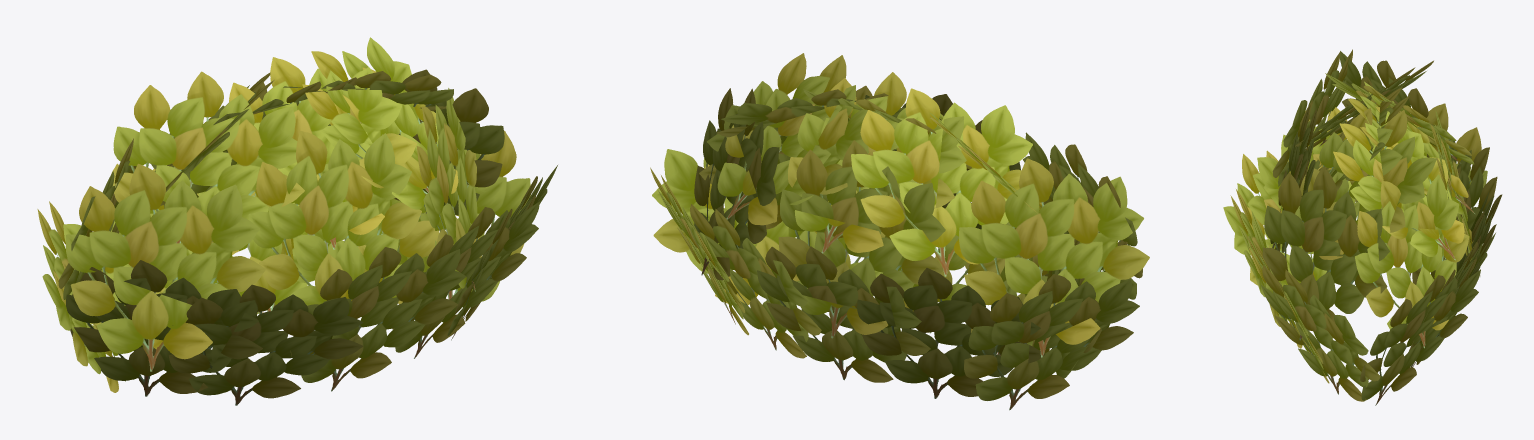
The model's file is bush2.glb.
3 views of the same model, side by side, from view 1: azimuth 30°, elevation 25°; view 2: azimuth 150°, elevation 25°; view 3: azimuth 270°, elevation 25° (orthographic). The views are drawn at different scales.
Visible parts, largest first — view 1: bush2; view 2: bush2; view 3: bush2.
Boxes of the visible parts, box(x1,y1,x2,y2) form: bush2: box(37, 37, 557, 405); bush2: box(650, 53, 1149, 410); bush2: box(1223, 49, 1502, 405).
Size of the model in its own units: 20.07 by 11.8 by 11.05.
1 material, 1 textured.
